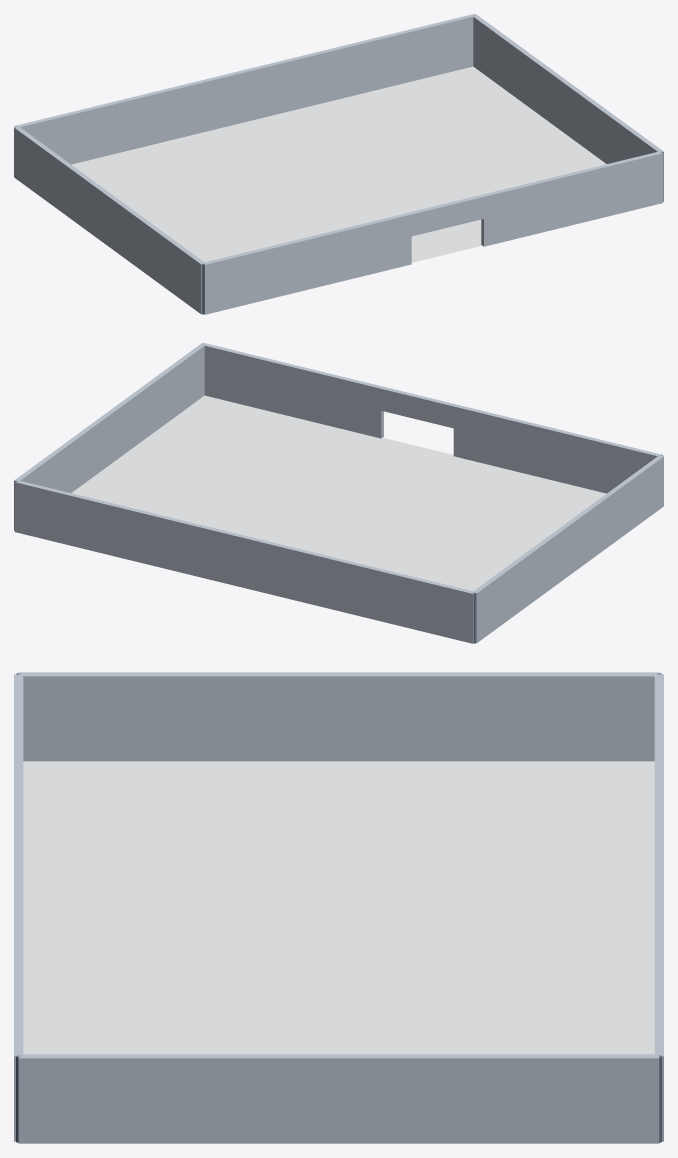
The model's file is fd7afd1c-9a98-41b7-bc85-b92d81d09ea3.glb.
3 renders of one model, top to bottom at view 1: azimuth 30°, elevation 25°; view 2: azimuth 150°, elevation 25°; view 3: azimuth 270°, elevation 25°, orthographic. The views are drawn at different scales.
Visible parts, largest first — view 1: room-content; view 2: room-content; view 3: room-content.
Part boxes in pixels (<box>): room-content: <box>14,14,663,314</box>; room-content: <box>14,343,663,643</box>; room-content: <box>14,672,663,1143</box>.
Bounding box in the file's own units: 48.5 × 5 × 34.5.
